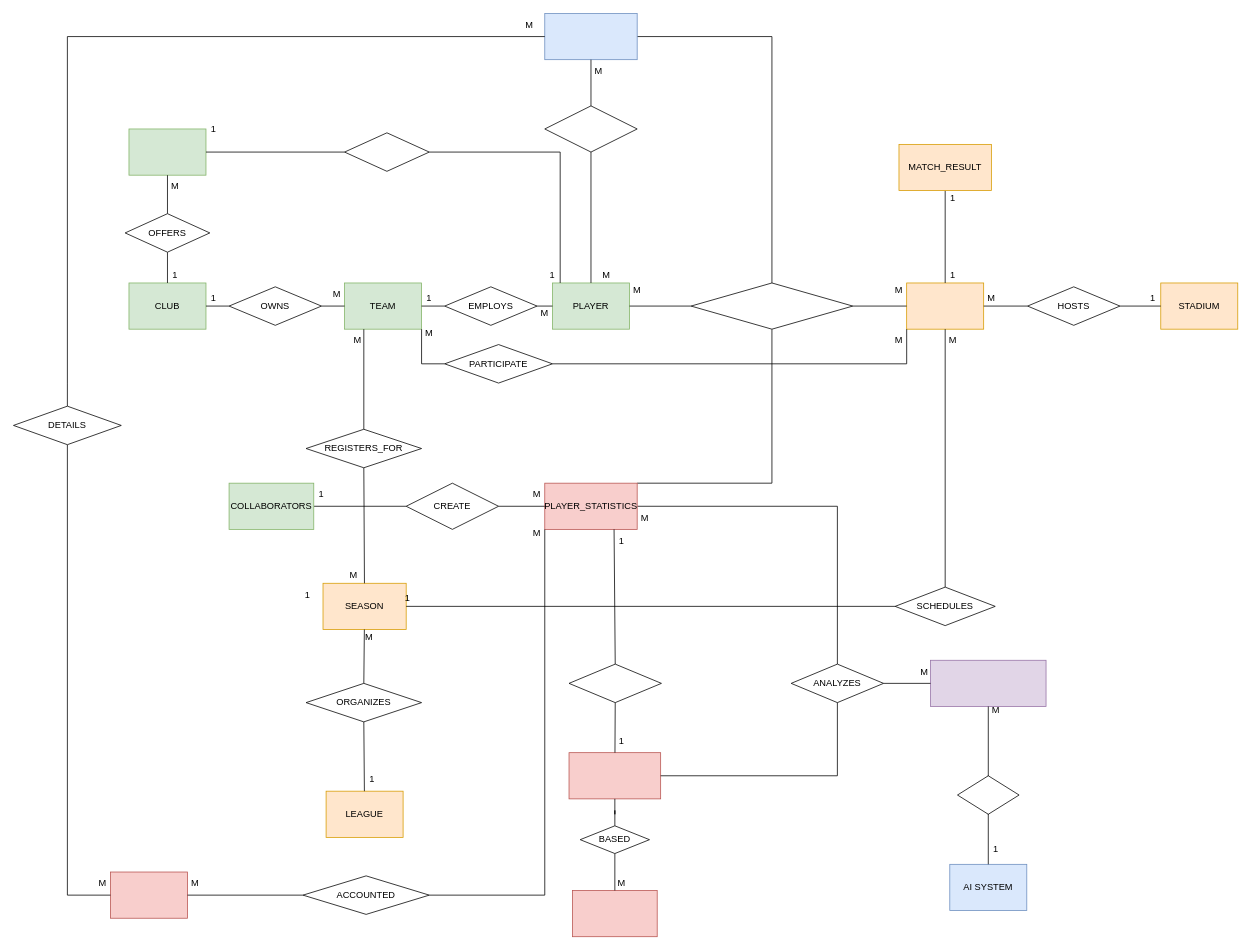
This 1251x950 diagram has some shape labels left out. The shapes that lost their labels are listed below. From the top down, each one's box as (x1, y1, x2, y2) in pixels, then its label:
(544, 13, 637, 60): POSITION
(544, 105, 637, 152): PLAYS_AS
(128, 128, 206, 175): CONTRACT
(344, 132, 429, 171): INCLUDES
(690, 282, 853, 329): PLAYER_MATCH_APPEARANCE
(906, 282, 984, 329): MATCH
(568, 663, 661, 703): EVALUATES_TO
(930, 660, 1046, 706): ANALYTICAL_POST
(568, 752, 661, 799): ACTIONS _RATING
(957, 775, 1019, 814): CREATES
(110, 871, 187, 918): ACTIONS
(572, 890, 657, 937): RATING_POINTS
